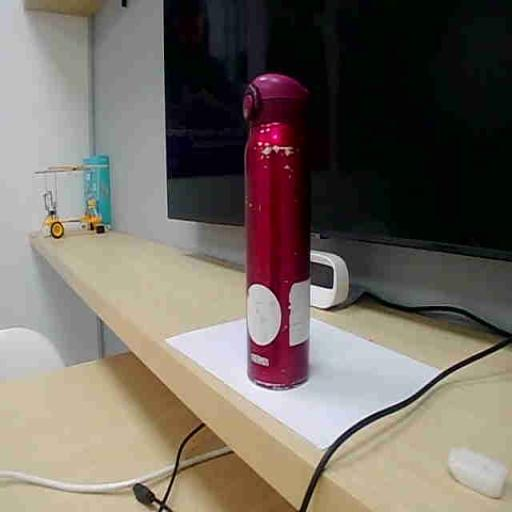bottle: (244, 74, 310, 389)
